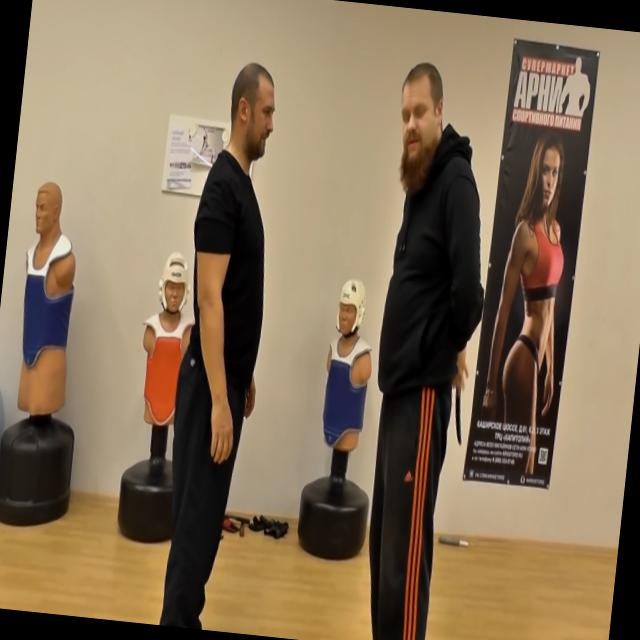knife: (447, 356, 472, 447)
